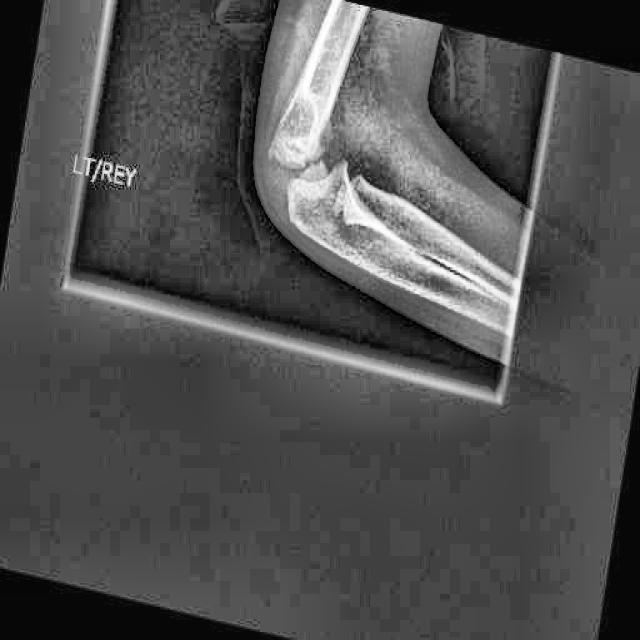elbow positive: (312, 139, 392, 254)
